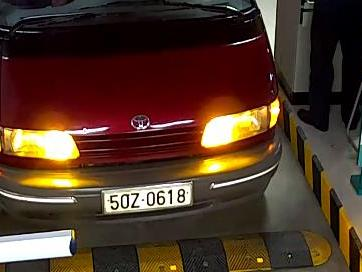number: (101, 182, 193, 213)
